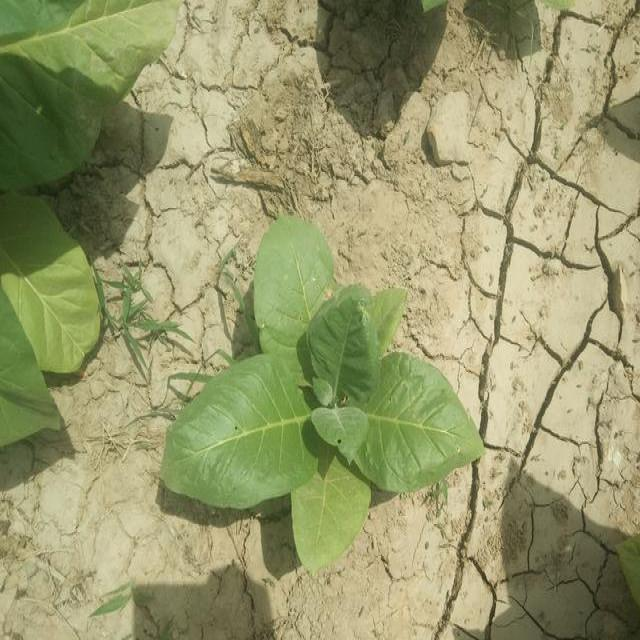crop: (152, 232, 448, 557), (0, 4, 192, 189), (0, 181, 105, 464)
